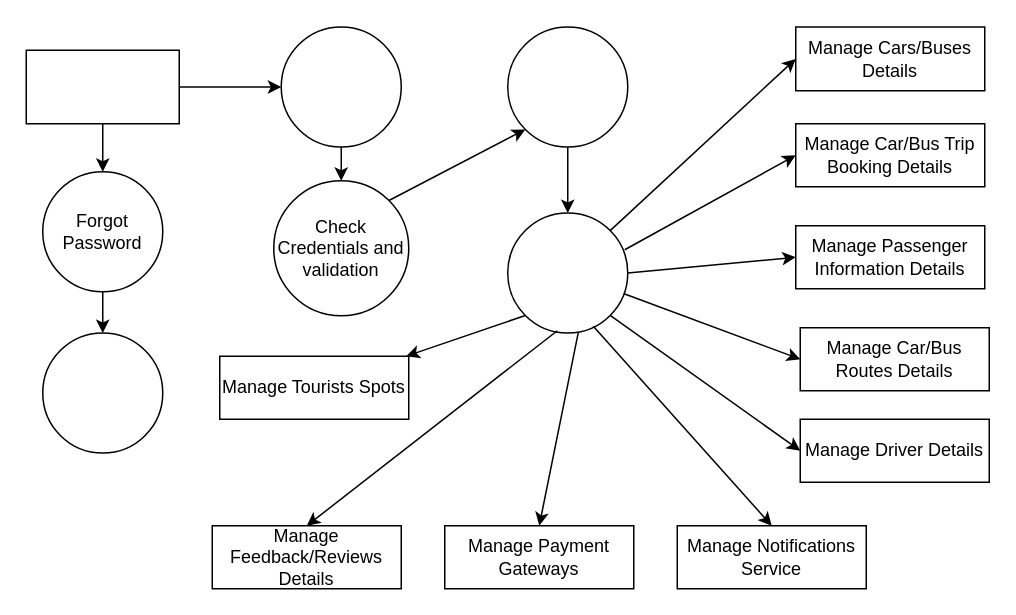
Some shapes in this 1016 by 615 pixel diagram are drawn without their labels. The centre of each missing label's shape, as x and y in pixels:
Admin: the point at 102,86
Check Roles of Access: the point at 567,86
Login to System: the point at 340,86
Manage Modules: the point at 567,272
Send Email to the User: the point at 102,392
